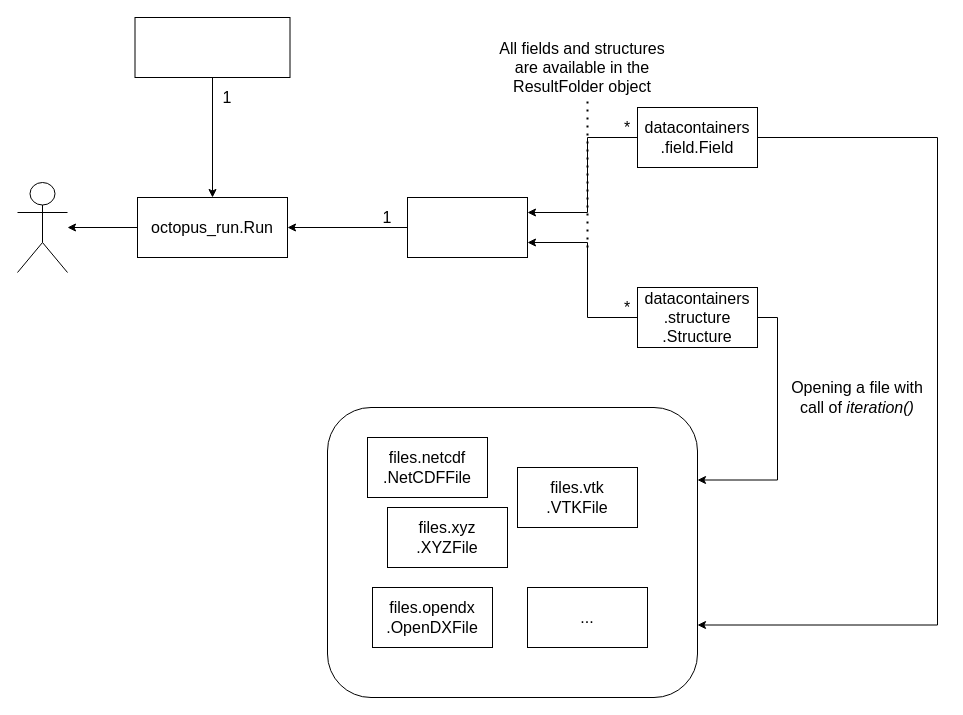
This 963x715 diagram has some shape labels left out. Each missing label, with the centre of its shape:
"octopus_inp_parser. .inpparse .Parser" goes at point 212,47.
"resultfolder .ResultFolder" goes at point 467,227.
"User" goes at point 42,227.
